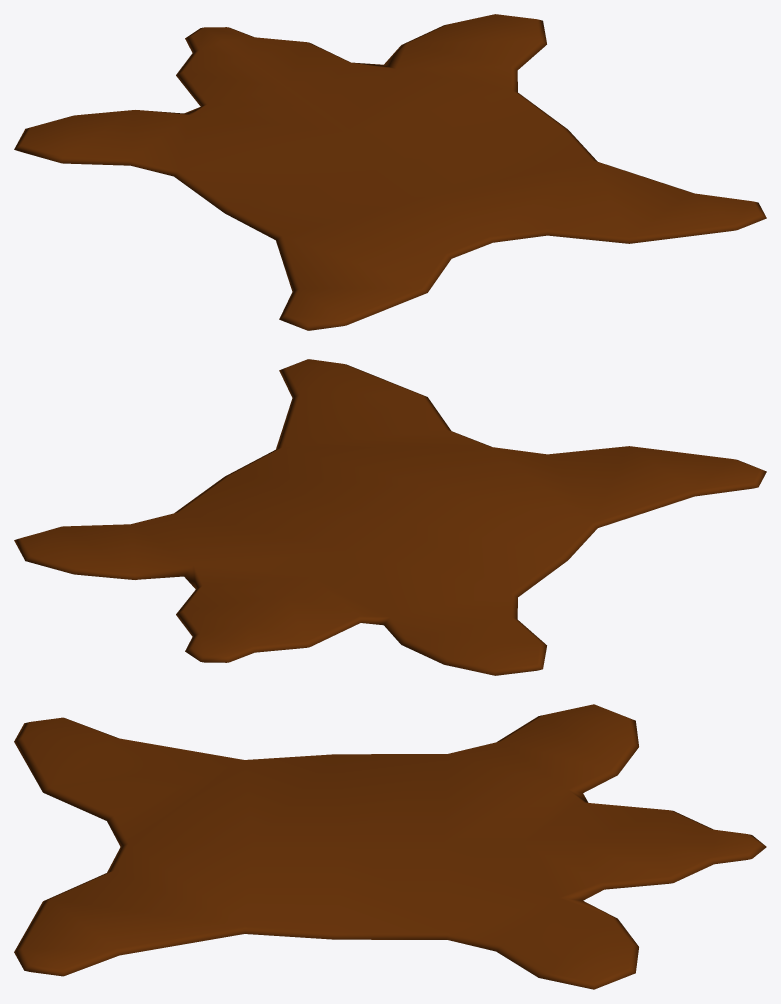
File: Fur.fbx
The picture shows the model from 3 angles, top to bottom: view 1: azimuth 30°, elevation 25°; view 2: azimuth 150°, elevation 25°; view 3: azimuth 270°, elevation 25°; orthographic projection. The views are drawn at different scales.
Visible parts, largest first — view 1: Fur; view 2: Fur; view 3: Fur.
Boxes of the visible parts, bbox=[...] form: Fur: bbox=[14, 14, 766, 330]; Fur: bbox=[14, 359, 766, 675]; Fur: bbox=[14, 704, 766, 989].
Size of the model in its own units: 61.4 by 0.728 by 68.61.
